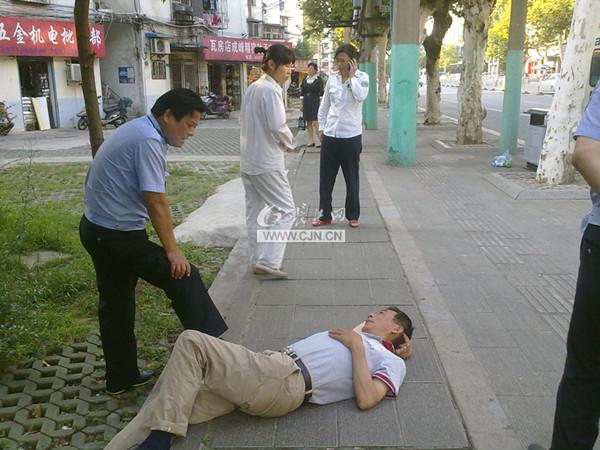bending: (83, 80, 218, 391)
down: (109, 294, 417, 445)
up: (223, 35, 302, 289), (312, 37, 376, 232), (288, 57, 324, 155)
